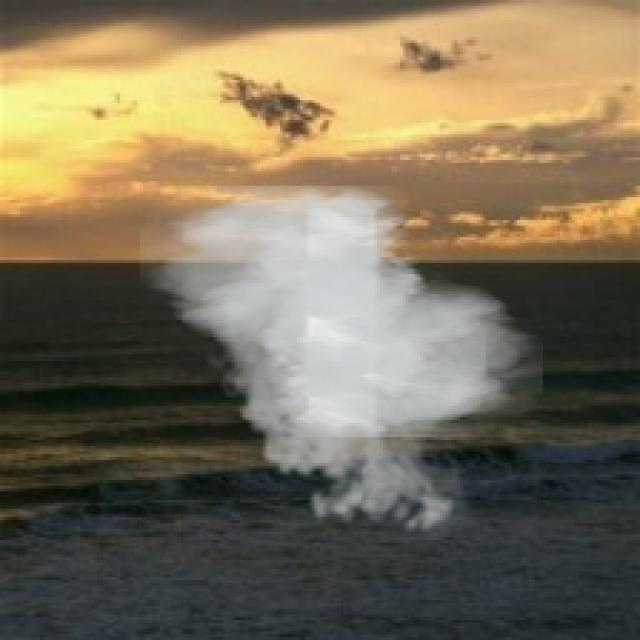smoke: (140, 186, 543, 543)
